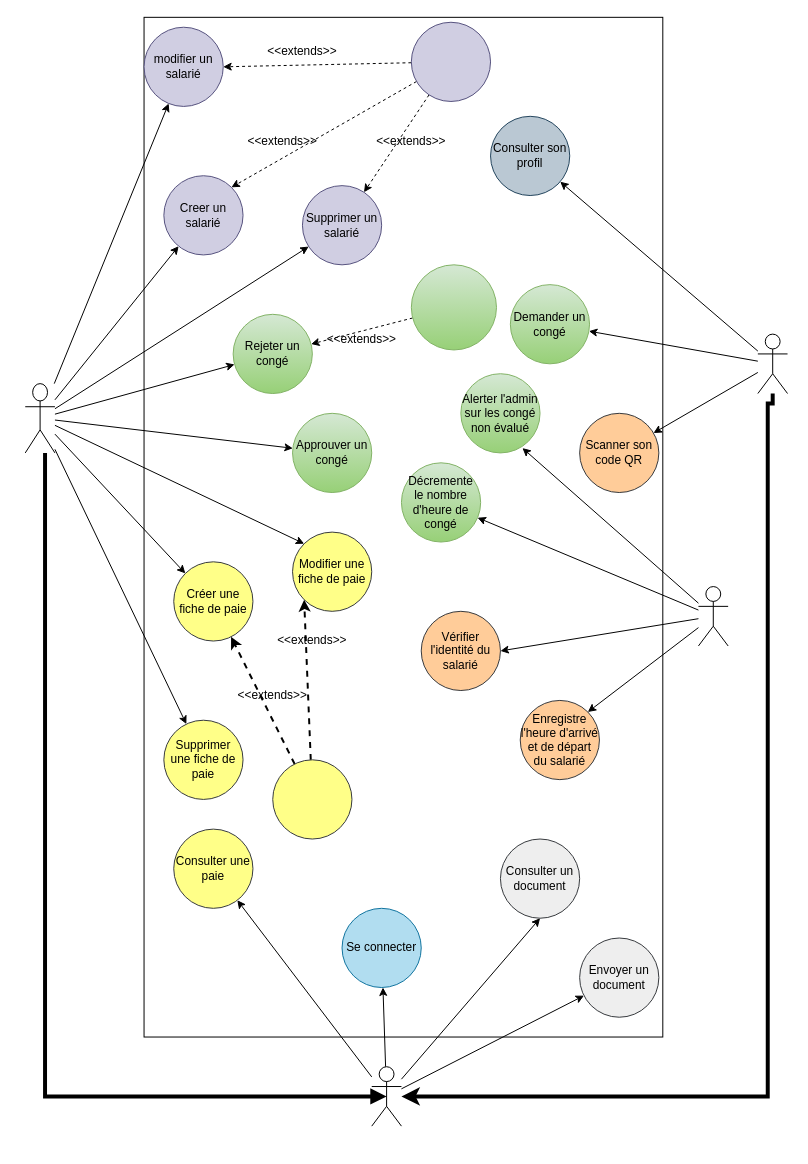
Some shapes in this 808 by 1164 pixel diagram are drawn without their labels. The centre of each missing label's shape, as x and y in pixels:
"Consulter la liste des salariés" belongs at point (450, 61).
"Donner un justificatif" belongs at point (453, 307).
"Imprimer la fiche de paie" belongs at point (312, 799).
"Manager" belongs at point (39, 418).
"S.I." belongs at point (712, 616).
"Salarié" belongs at point (772, 363).
"Utilisateur" belongs at point (386, 1096).
